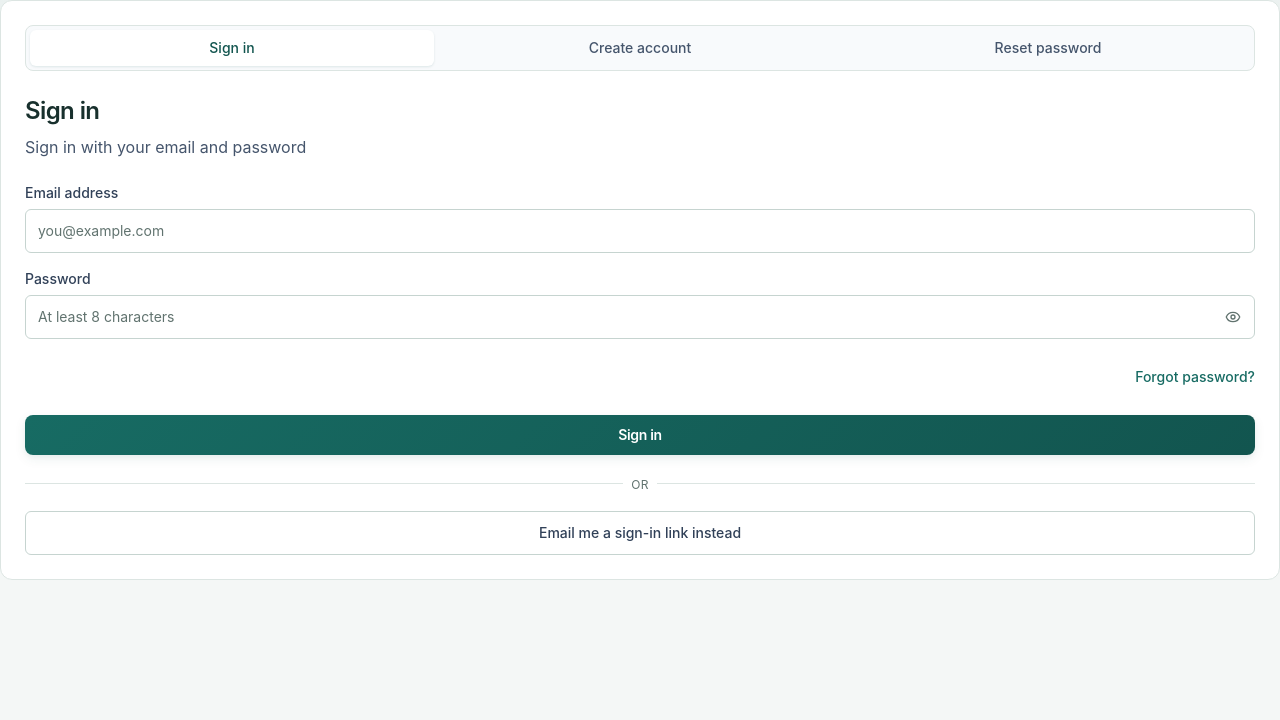
Test case: AuthPanel › reset tab sends a password reset email
This screenshot has width=1280, height=720.
Click the tab "Reset password" at point(1048, 48), box [846, 30, 1250, 66]
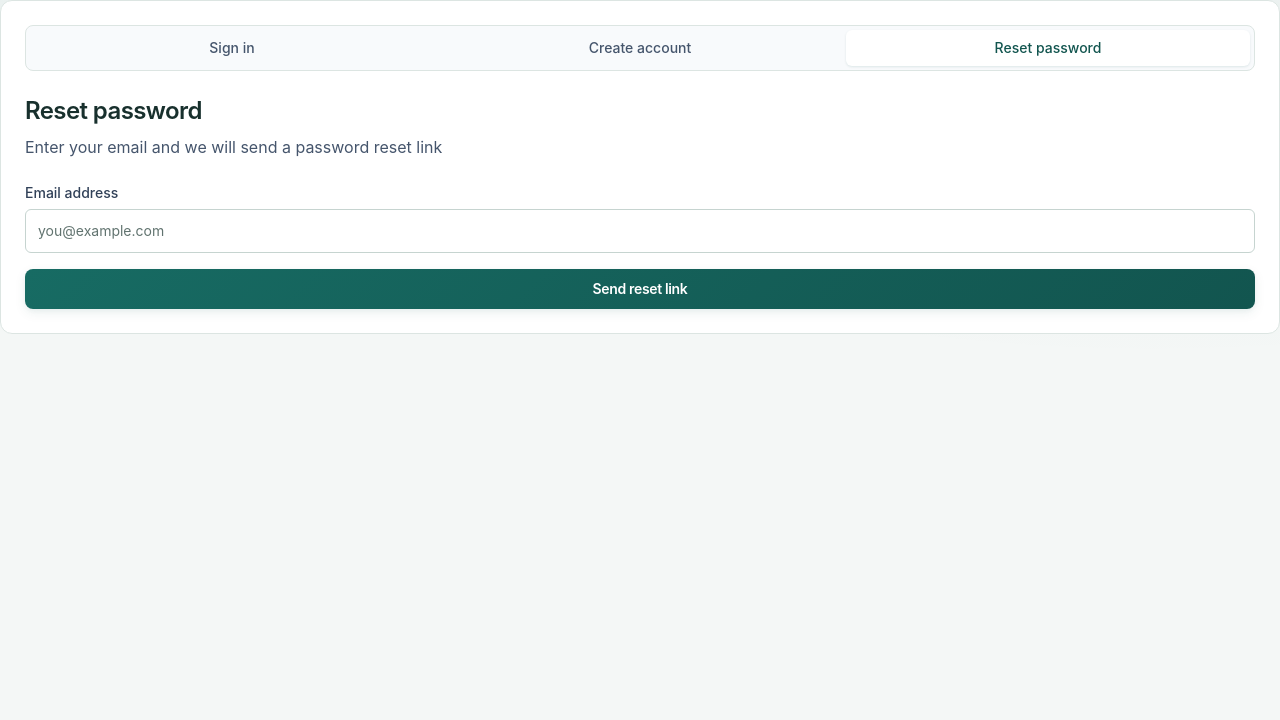
Type "reset@example.com" into the field labelled "Email address" at point(640, 231), box [25, 209, 1255, 253]
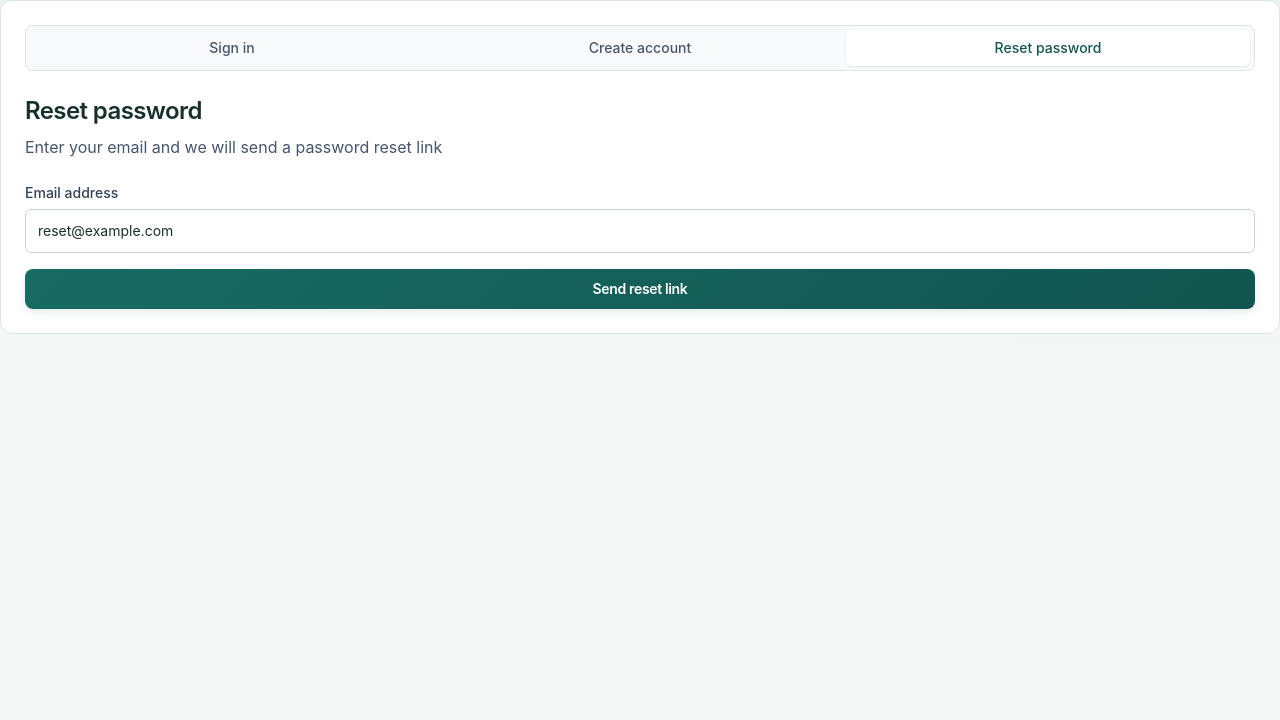
Click the button "Send reset link" at point(640, 289), box [25, 269, 1255, 309]
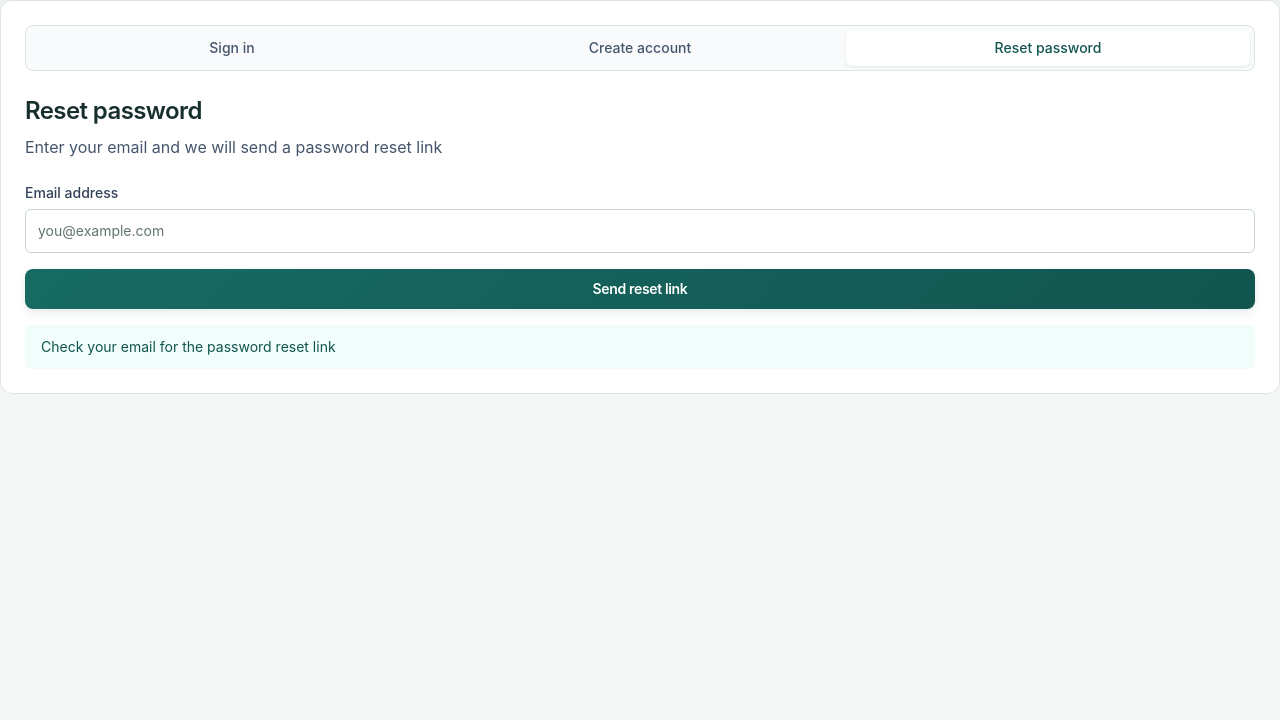
Check: the message reads "Check your email for the password reset link", box [41, 338, 336, 355]
